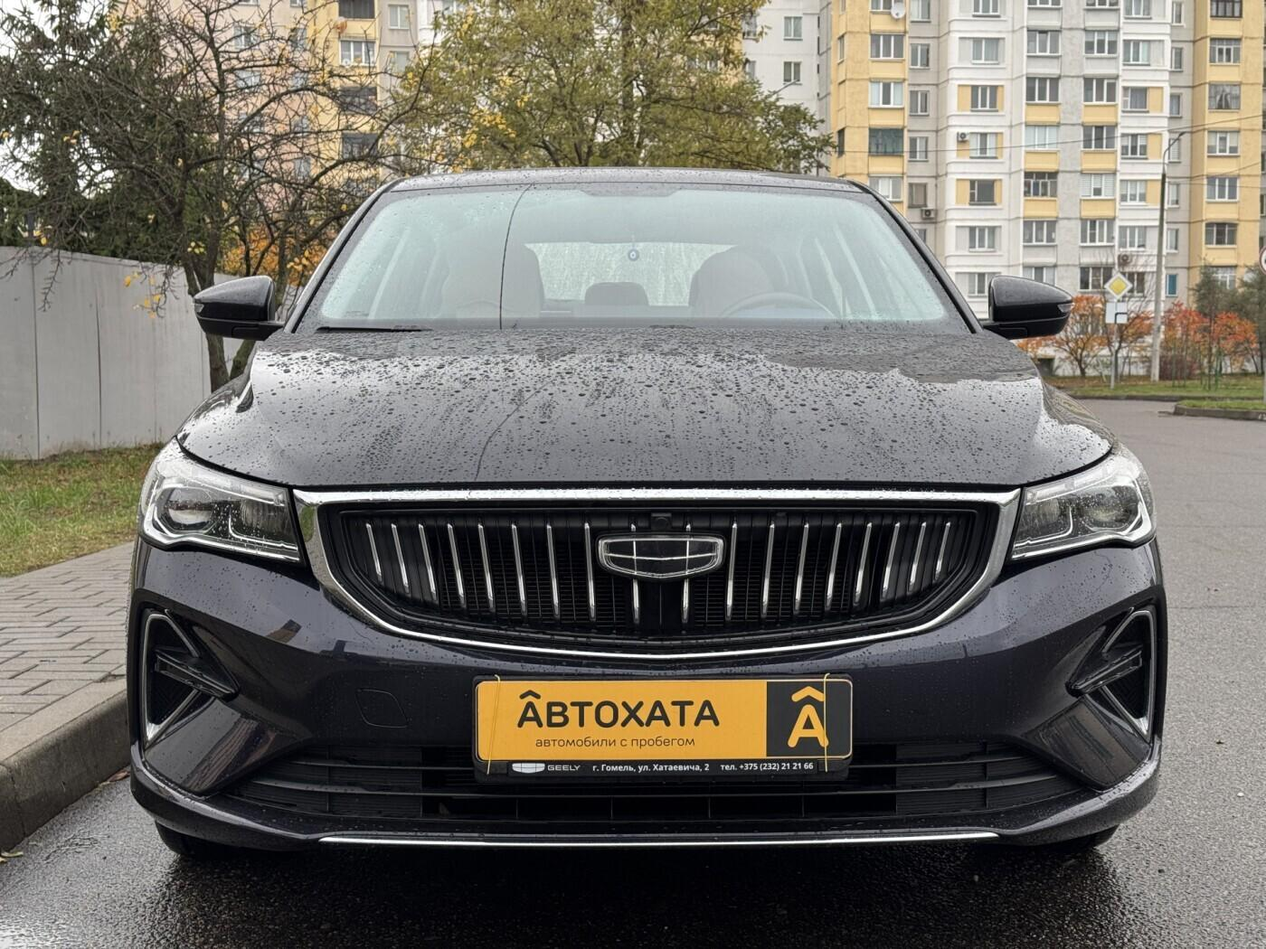Emgrand_2021: (111, 163, 1174, 888)
